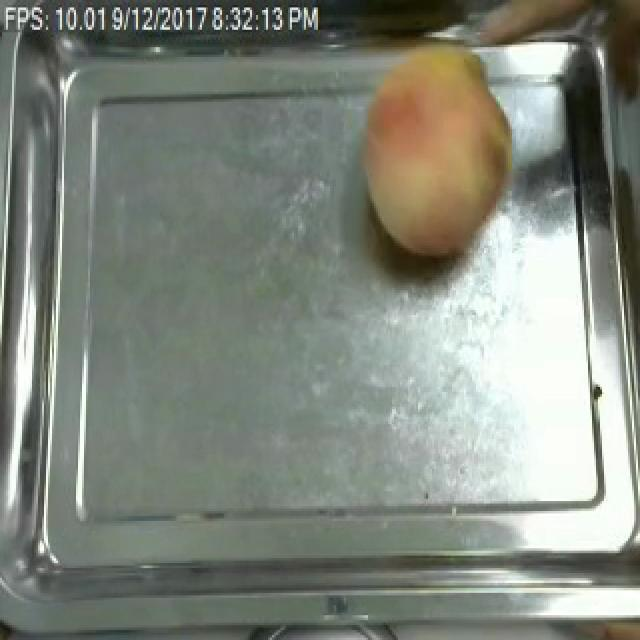Fruit: (348, 35, 524, 268)
